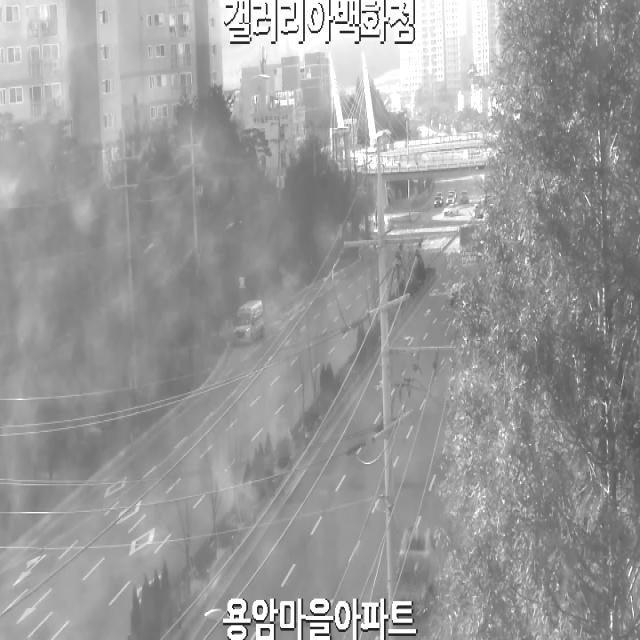Car: (233, 300, 264, 343)
